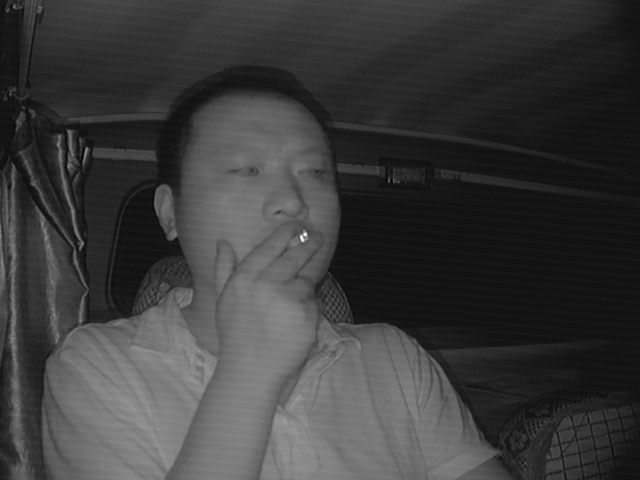hand: (225, 228, 331, 345)
